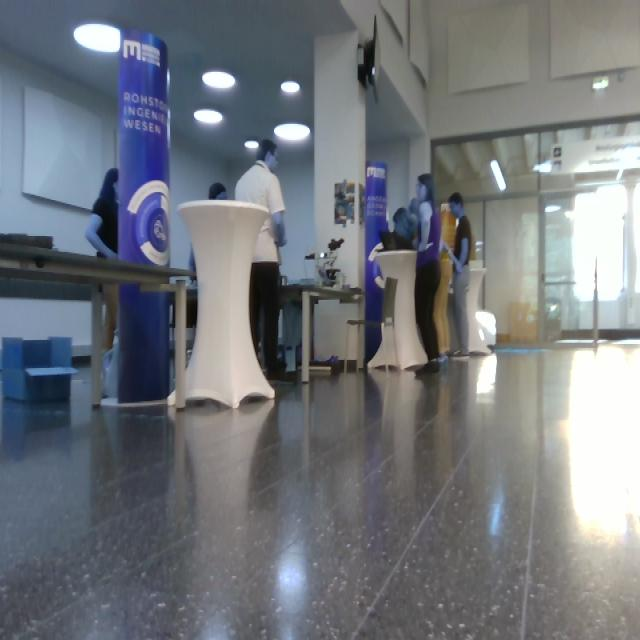door: (484, 194, 540, 345)
light bulb: (73, 23, 122, 55), (475, 311, 497, 347), (274, 122, 311, 141), (202, 71, 236, 91), (490, 160, 507, 192), (194, 108, 223, 125), (281, 80, 300, 94), (592, 76, 609, 90), (244, 140, 260, 149)
person: (235, 139, 288, 379), (411, 175, 443, 375), (86, 168, 120, 353), (446, 192, 472, 357)
pillar: (176, 198, 276, 409), (116, 29, 172, 404)
tiled floor: (1, 339, 640, 639)
